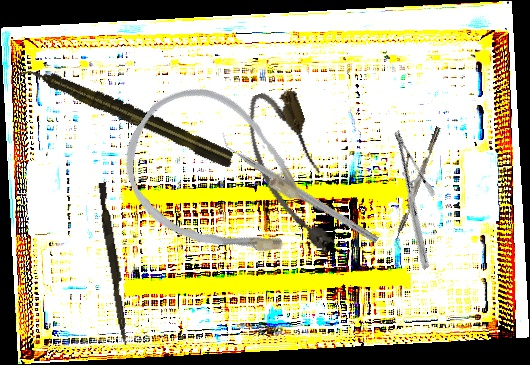Cannula: (99, 64, 345, 297), (237, 83, 346, 264)
Chopper: (215, 129, 385, 244), (390, 126, 447, 250)
Handpiece: (17, 57, 238, 171)
Needle Holder: (343, 129, 480, 271)
Pusher: (93, 182, 135, 346)
